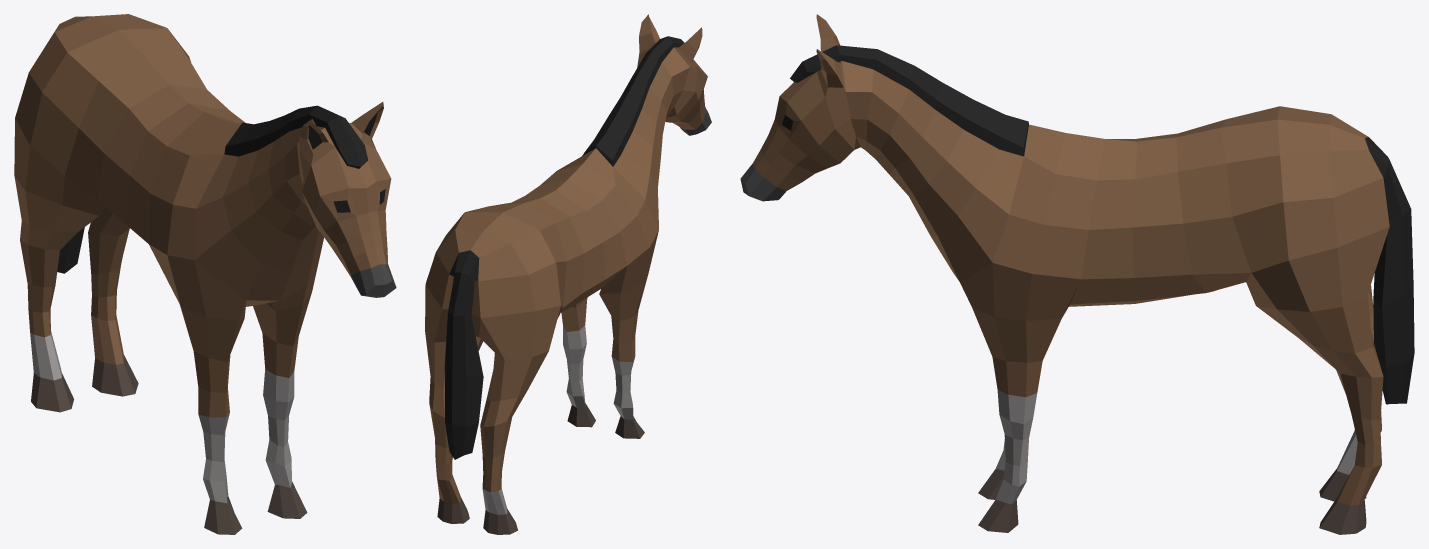
The model's file is horse-transformed.glb.
The picture shows the model from 3 angles, left to right: view 1: azimuth 30°, elevation 25°; view 2: azimuth 150°, elevation 25°; view 3: azimuth 270°, elevation 25°; orthographic projection. The views are drawn at different scales.
Visible parts, largest first — view 1: horse; view 2: horse; view 3: horse.
Part boxes in pixels (left/top/right/bottom): horse: left=14, top=14, right=396, bottom=534; horse: left=425, top=14, right=711, bottom=534; horse: left=740, top=14, right=1414, bottom=534.
Size of the model in its own units: 0.7235 by 1.99 by 2.54.
Materials: 1 (1 with a texture image).
